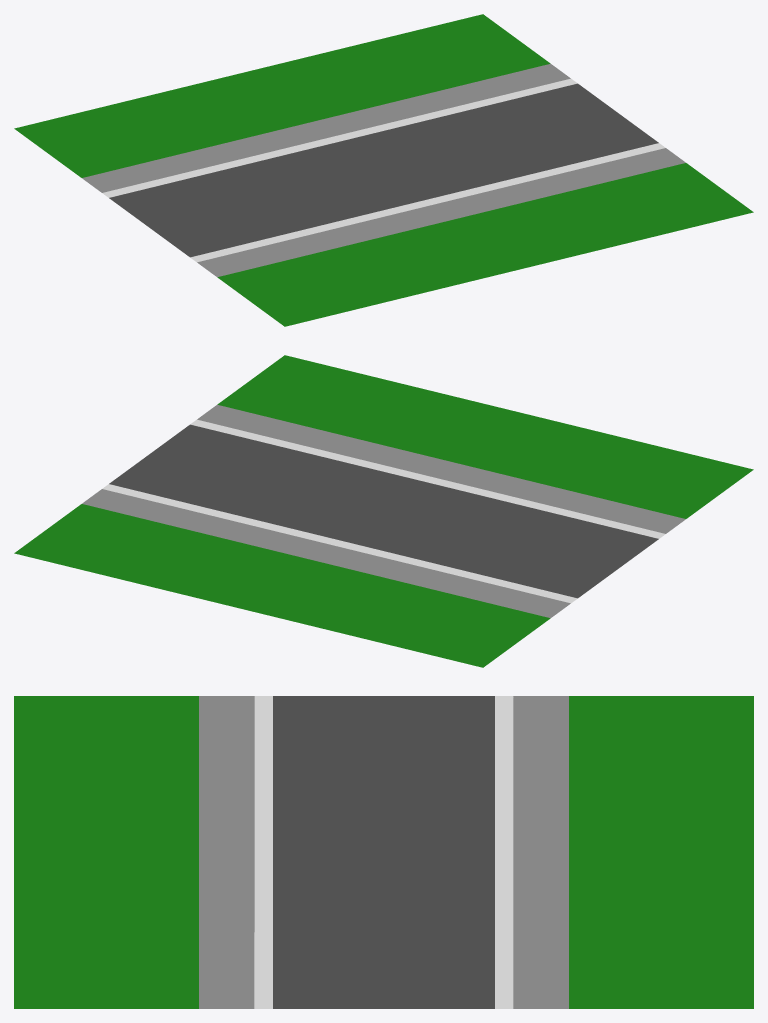
Rendered from Road-Straight.fbx.
3 renders of one model, top to bottom at view 1: azimuth 30°, elevation 25°; view 2: azimuth 150°, elevation 25°; view 3: azimuth 270°, elevation 25°, orthographic. The views are drawn at different scales.
Parts seen in each view (by area): view 1: Road-StraightTerrain, Road-Straight, Road-StraightSidewalk, Road-StraightWhitelines; view 2: Road-StraightTerrain, Road-Straight, Road-StraightSidewalk, Road-StraightWhitelines; view 3: Road-StraightTerrain, Road-Straight, Road-StraightSidewalk, Road-StraightWhitelines.
Boxes of the visible parts, box(x1,y1,x2,y2) form: Road-StraightTerrain: box(14, 14, 753, 326); Road-Straight: box(109, 83, 658, 257); Road-StraightSidewalk: box(82, 63, 685, 277); Road-StraightWhitelines: box(102, 78, 665, 262); Road-StraightTerrain: box(14, 355, 753, 667); Road-Straight: box(109, 424, 658, 598); Road-StraightSidewalk: box(82, 404, 685, 618); Road-StraightWhitelines: box(102, 419, 665, 603); Road-StraightTerrain: box(14, 696, 753, 1008); Road-Straight: box(273, 696, 494, 1008); Road-StraightSidewalk: box(199, 696, 568, 1008); Road-StraightWhitelines: box(254, 696, 513, 1008).
Bounding box in the file's own units: 20 × 0 × 20.
